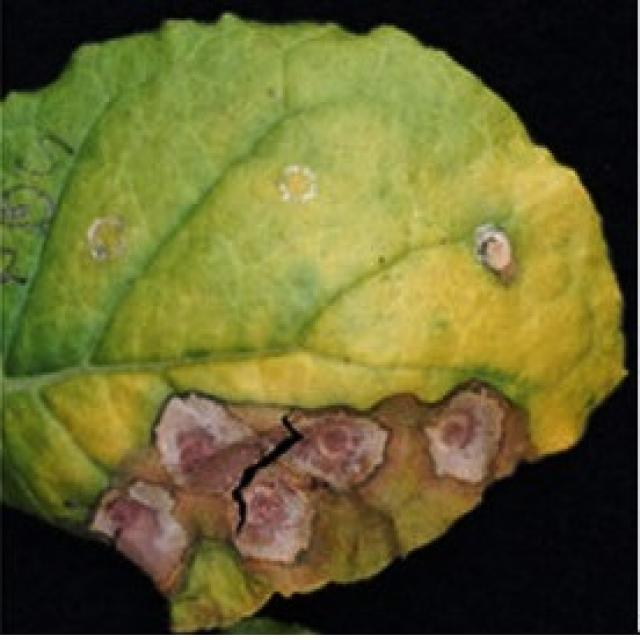Fusarium Wilt: (69, 343, 544, 615)
